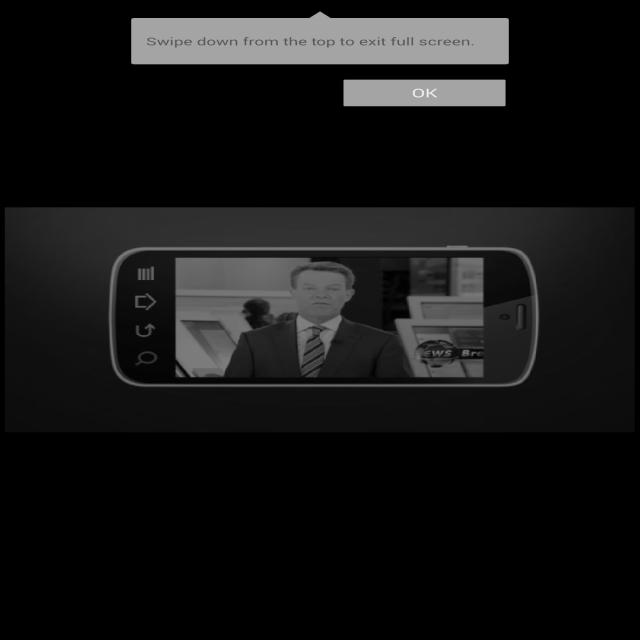ImageButton: (9, 2, 68, 45)
ImageView: (14, 53, 307, 236), (325, 451, 635, 559), (5, 249, 315, 312), (325, 249, 635, 312), (5, 451, 315, 513), (582, 210, 634, 242), (262, 410, 314, 442), (582, 410, 634, 442), (11, 410, 62, 442), (331, 410, 382, 442), (330, 210, 380, 242), (532, 210, 582, 242), (212, 410, 262, 442), (532, 410, 582, 442), (85, 17, 205, 30), (589, 8, 631, 40), (541, 16, 568, 32), (22, 214, 42, 230), (14, 290, 33, 306), (334, 290, 353, 306), (14, 492, 33, 508), (334, 538, 353, 554)
TextView: (333, 102, 626, 206), (167, 600, 640, 640), (333, 51, 626, 100), (18, 317, 302, 367), (338, 317, 622, 367), (18, 519, 302, 568), (338, 565, 622, 614), (18, 370, 302, 408), (338, 370, 622, 408), (18, 570, 302, 608), (0, 600, 166, 640), (60, 421, 218, 432), (380, 421, 538, 432), (470, 8, 520, 40), (379, 220, 538, 230), (569, 25, 576, 35)
